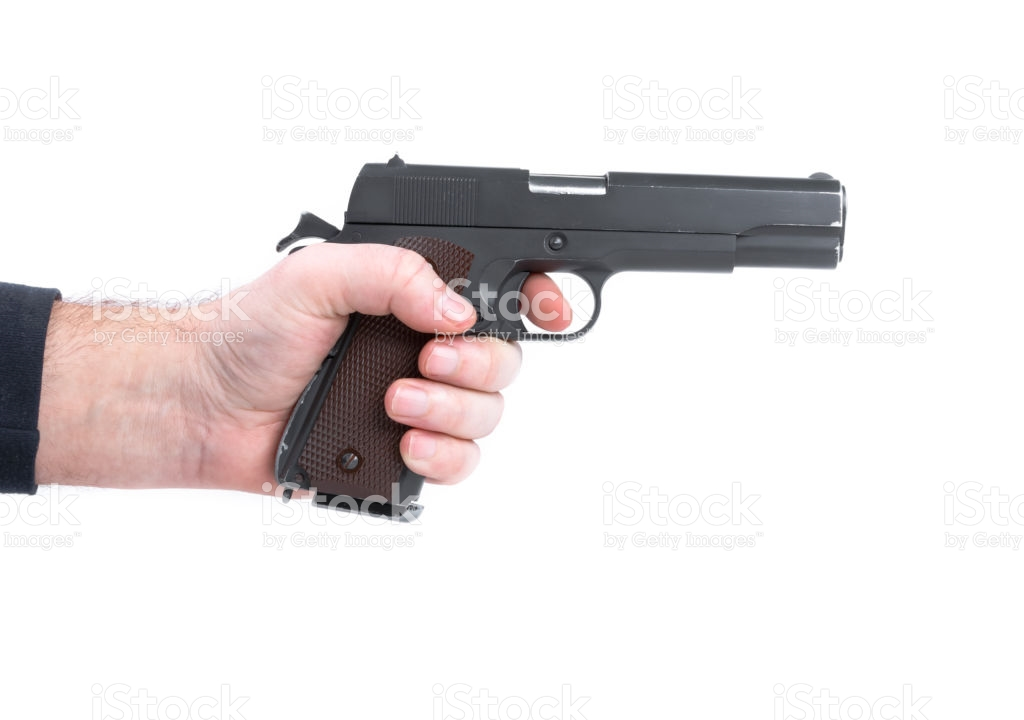pistol: (233, 110, 875, 560)
